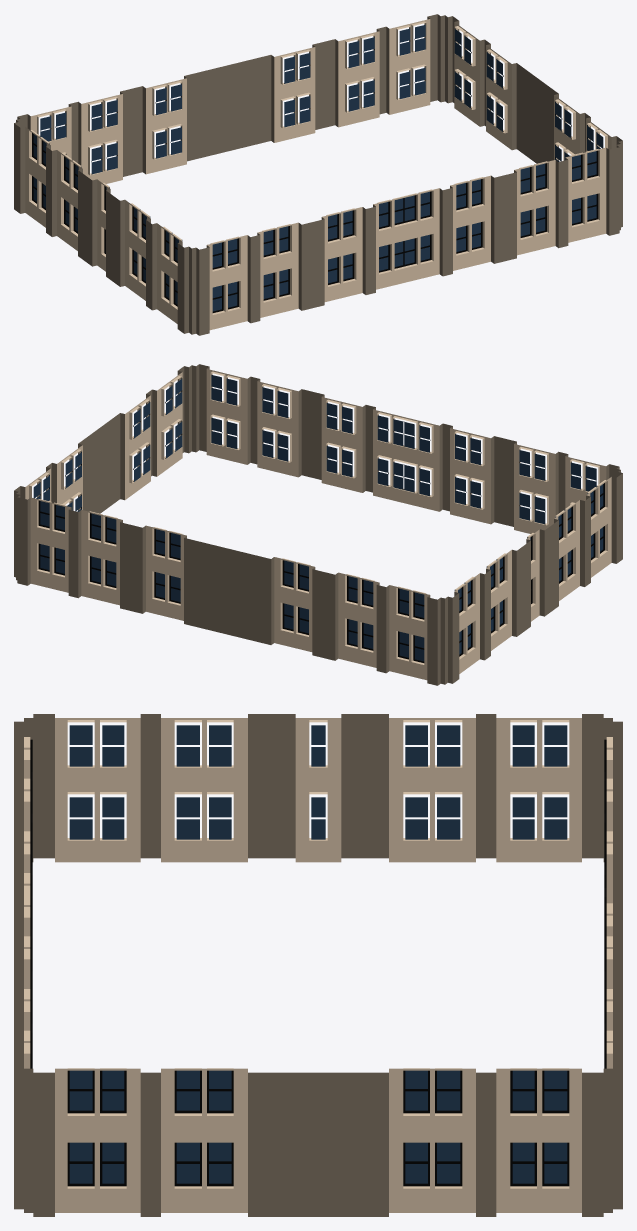
File: Apt3_Floor.fbx
3 views of the same model, one above another, from view 1: azimuth 30°, elevation 25°; view 2: azimuth 150°, elevation 25°; view 3: azimuth 270°, elevation 25° (orthographic). The views are drawn at different scales.
Visible parts, largest first — view 1: Apt3_Floor_Main, Apt3_Floor_Pillars, Apt3_Floor_Windows, Apt3_Floor_Frame; view 2: Apt3_Floor_Main, Apt3_Floor_Pillars, Apt3_Floor_Windows, Apt3_Floor_Frame; view 3: Apt3_Floor_Main, Apt3_Floor_Pillars, Apt3_Floor_Windows, Apt3_Floor_Frame.
Boxes of the visible parts, x1=… form: Apt3_Floor_Main: x1=25, y1=19, x2=611, y2=330; Apt3_Floor_Pillars: x1=14, y1=14, x2=622, y2=335; Apt3_Floor_Windows: x1=33, y1=25, x2=603, y2=311; Apt3_Floor_Frame: x1=32, y1=28, x2=598, y2=312; Apt3_Floor_Main: x1=25, y1=369, x2=611, y2=680; Apt3_Floor_Pillars: x1=14, y1=364, x2=622, y2=685; Apt3_Floor_Windows: x1=33, y1=375, x2=603, y2=661; Apt3_Floor_Frame: x1=38, y1=378, x2=604, y2=662; Apt3_Floor_Main: x1=24, y1=718, x2=612, y2=1212; Apt3_Floor_Pillars: x1=14, y1=714, x2=622, y2=1216; Apt3_Floor_Windows: x1=69, y1=725, x2=567, y2=1183; Apt3_Floor_Frame: x1=30, y1=739, x2=606, y2=1186.
Bounding box in the file's own units: 2882 × 541 × 2069.
